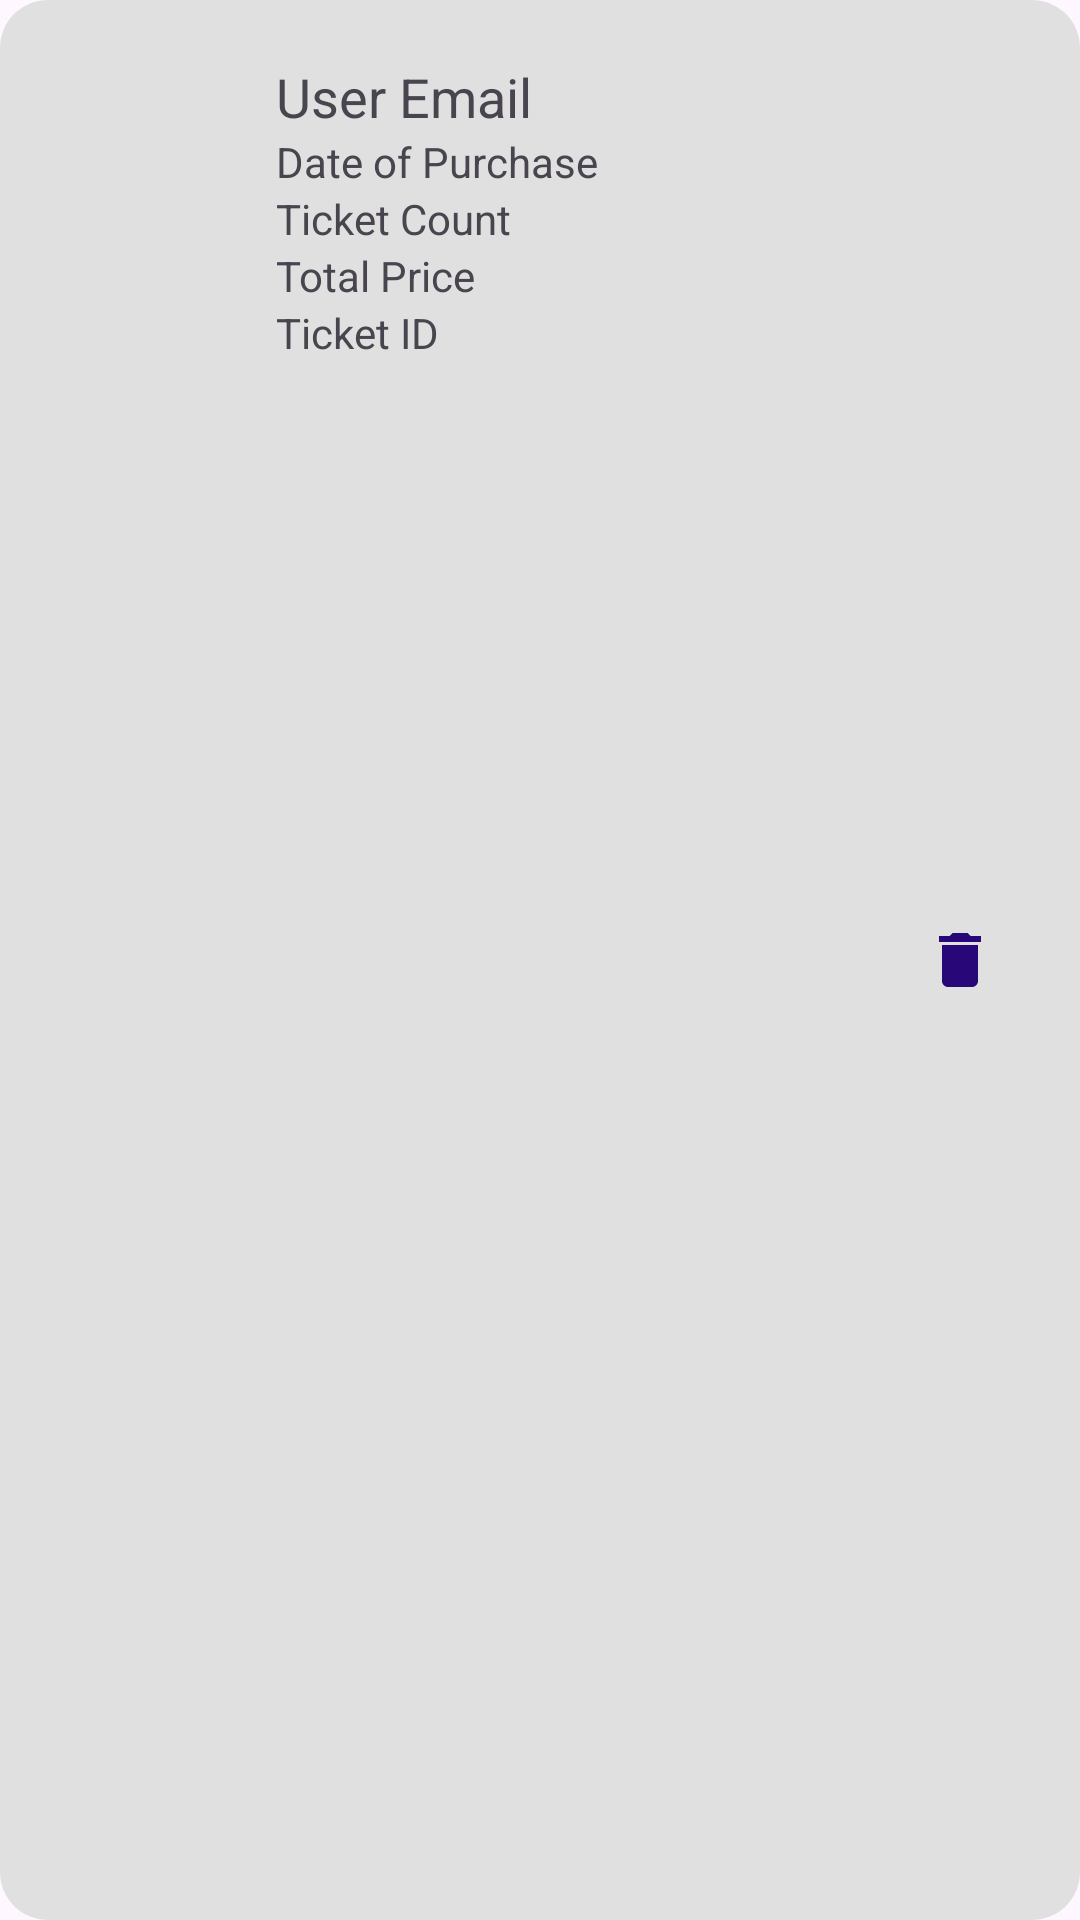

Screen size 1080 x 1920. Icon name, then its box in pixels as region(x1, y1, x2, y2):
delete: region(939, 933, 981, 987)
